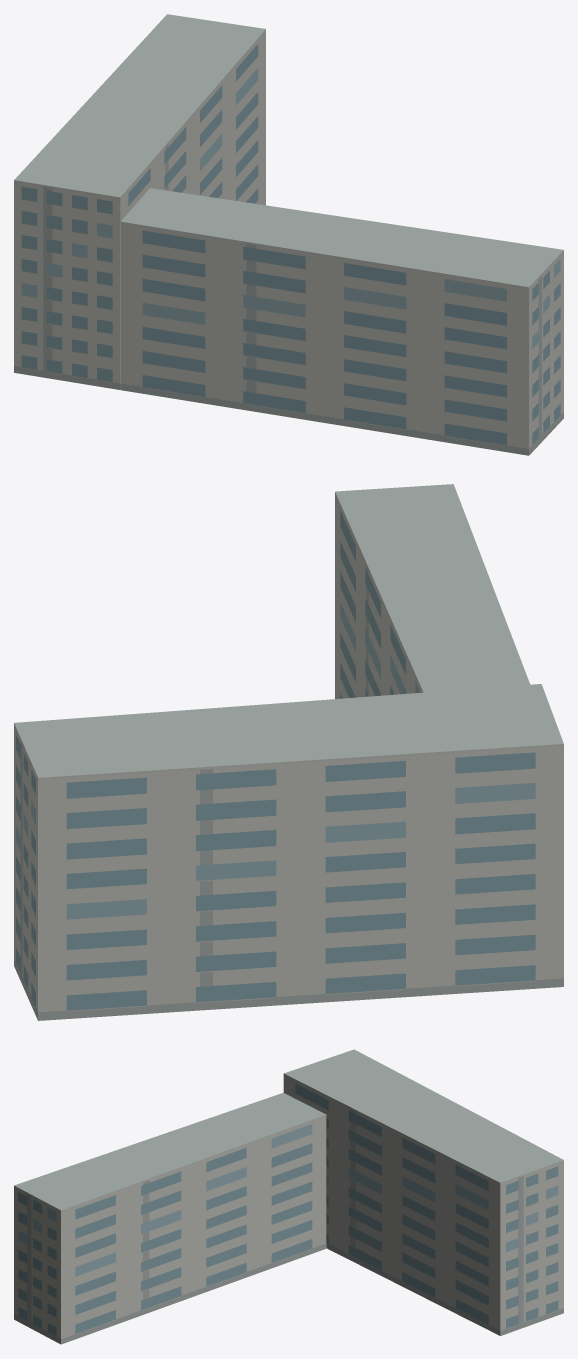
File: residential-67357804-aa2c-498d-9489-75bfbc31159d.glb
3 views of the same model, one above another, from view 1: azimuth 30°, elevation 25°; view 2: azimuth 150°, elevation 25°; view 3: azimuth 270°, elevation 25° (orthographic). The views are drawn at different scales.
Visible parts, largest first — view 1: residential-67357804-aa2c-498d-9489-75bfbc31159d.tmp; view 2: residential-67357804-aa2c-498d-9489-75bfbc31159d.tmp; view 3: residential-67357804-aa2c-498d-9489-75bfbc31159d.tmp.
Part boxes in pixels (x1,y1,x2,y2): residential-67357804-aa2c-498d-9489-75bfbc31159d.tmp: (14,14,563,455); residential-67357804-aa2c-498d-9489-75bfbc31159d.tmp: (14,484,563,1020); residential-67357804-aa2c-498d-9489-75bfbc31159d.tmp: (14,1049,563,1344).
Bounding box in the file's own units: 48.48 × 24.4 × 79.36.
